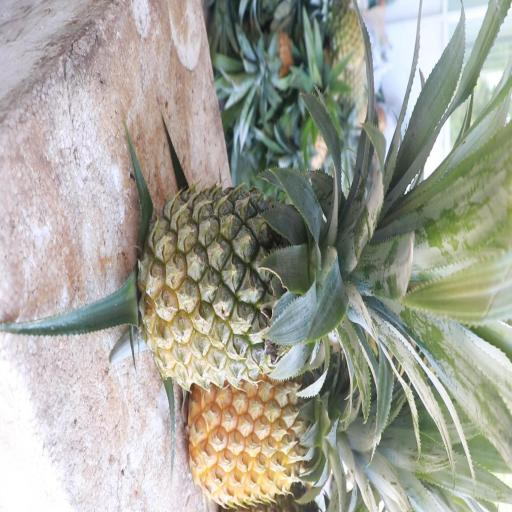Pineapple - v8 v1: (144, 188, 346, 376), (186, 379, 322, 504)
